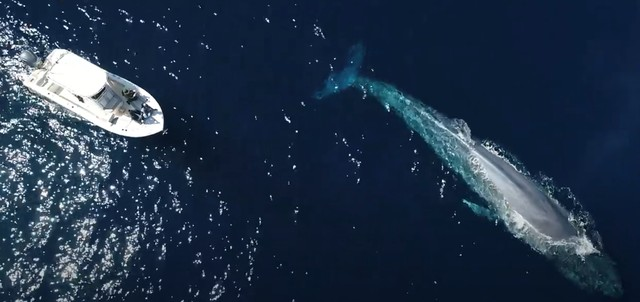whale: (311, 39, 631, 301)
